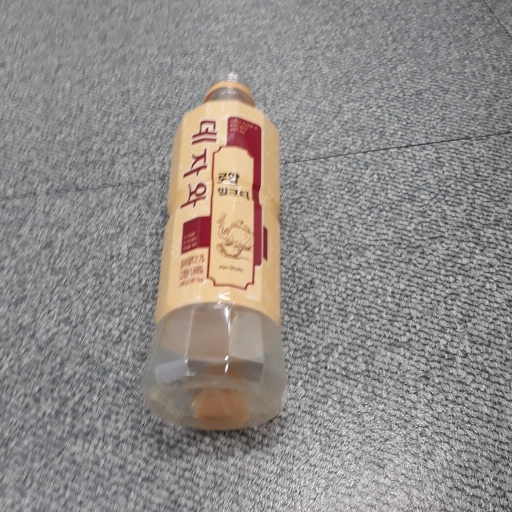Plastic_0: (146, 70, 289, 430)
